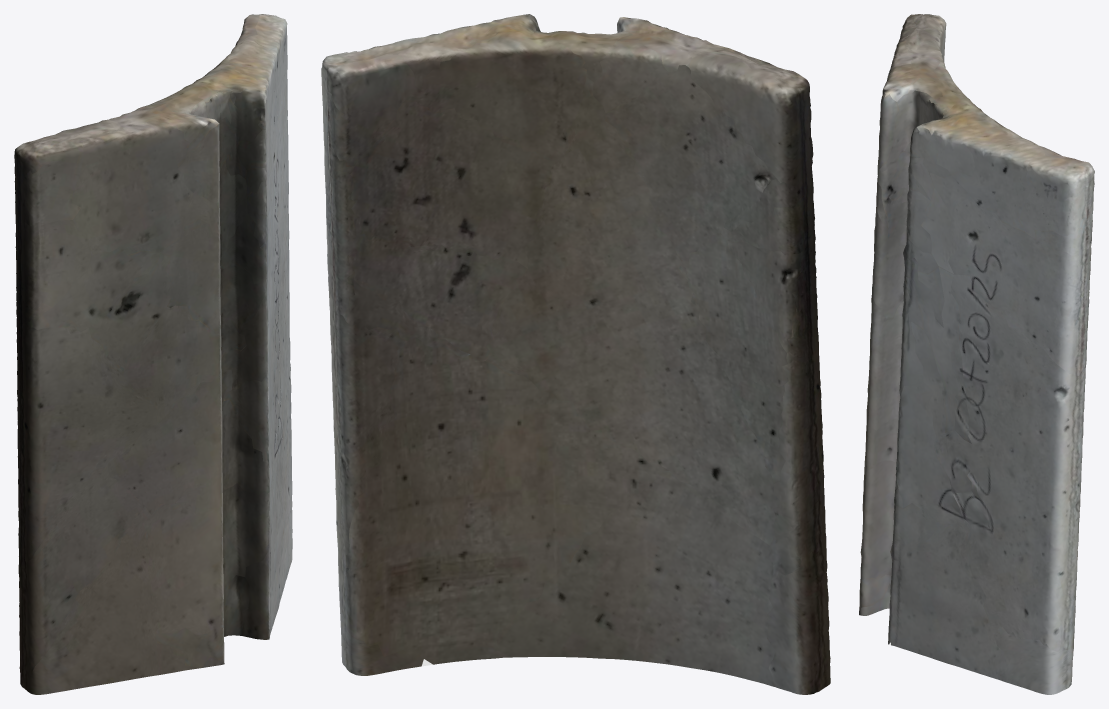
The picture shows the model from 3 angles, left to right: view 1: azimuth 30°, elevation 25°; view 2: azimuth 150°, elevation 25°; view 3: azimuth 270°, elevation 25°; orthographic projection. The views are drawn at different scales.
Visible parts, largest first — view 1: Node; view 2: Node; view 3: Node.
Part boxes in pixels (box(x1,y1,x2,y2)): Node: box(14, 14, 292, 694); Node: box(321, 14, 830, 694); Node: box(859, 14, 1094, 694).
Bounding box in the file's own units: 0.3118 × 0.4629 × 0.1865.
2 materials, 1 textured.
